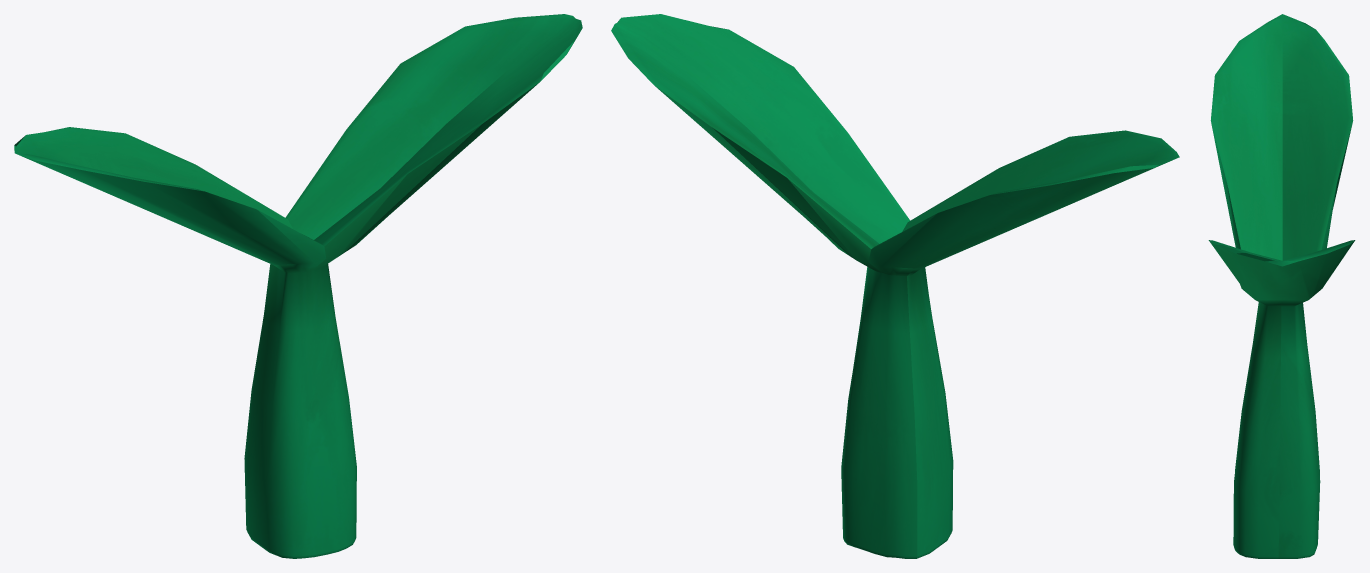
The model's file is SM_PlantStageTwo_Low.fbx.
The picture shows the model from 3 angles, left to right: view 1: azimuth 30°, elevation 25°; view 2: azimuth 150°, elevation 25°; view 3: azimuth 270°, elevation 25°; orthographic projection. The views are drawn at different scales.
Parts seen in each view (by area): view 1: SM_PlantStageTwo_Low; view 2: SM_PlantStageTwo_Low; view 3: SM_PlantStageTwo_Low.
Boxes of the visible parts, <box> form: SM_PlantStageTwo_Low: <box>14,14,582,558</box>; SM_PlantStageTwo_Low: <box>611,14,1179,558</box>; SM_PlantStageTwo_Low: <box>1208,14,1355,558</box>.
Bounding box in the file's own units: 1.91 × 1.47 × 0.4825.
